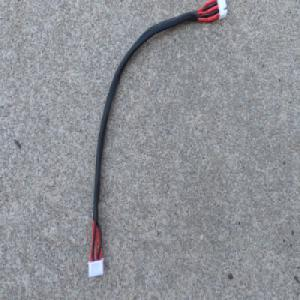Wire: (85, 0, 229, 281)
